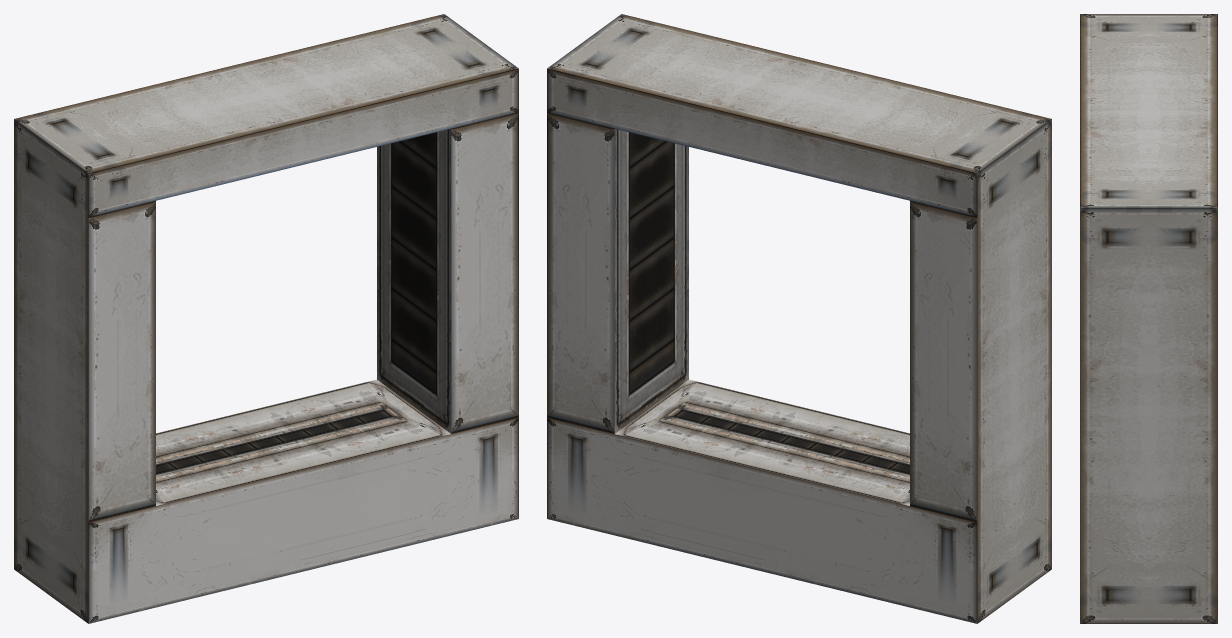
File: scifi_window_small.FBX
3 renders of one model, left to right at view 1: azimuth 30°, elevation 25°; view 2: azimuth 150°, elevation 25°; view 3: azimuth 270°, elevation 25°, orthographic. The views are drawn at different scales.
Parts seen in each view (by area): view 1: Plane156; view 2: Plane156; view 3: Plane156.
Part boxes in pixels (x1,y1,x2,y2): Plane156: (14, 14, 518, 623); Plane156: (547, 14, 1051, 623); Plane156: (1080, 14, 1217, 623).
Size of the model in its own units: 254 by 254 by 76.2.
